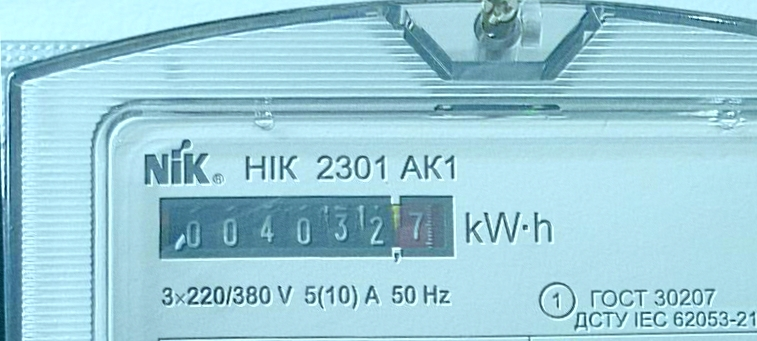0: (218, 214, 239, 247), (182, 215, 202, 248), (292, 212, 312, 245)
2: (366, 211, 385, 246)
3: (330, 209, 349, 241)
4: (255, 210, 276, 246)
7: (407, 207, 425, 241)
screen: (146, 180, 462, 275)
